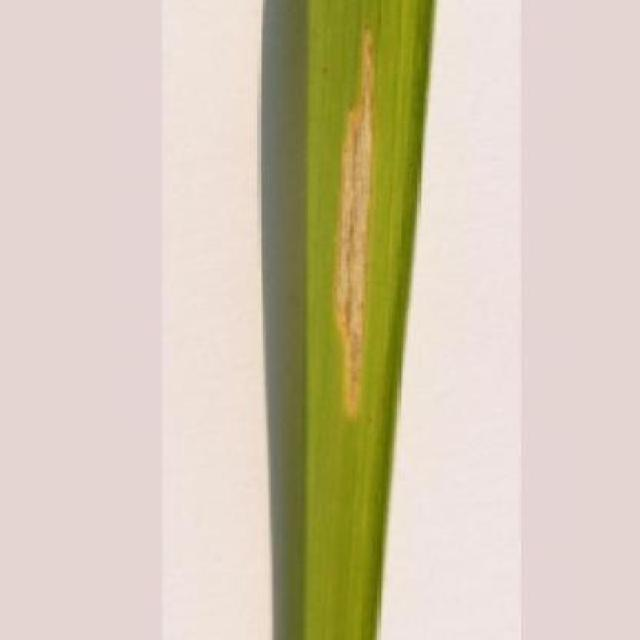Brown_Spot: (298, 0, 436, 640)
